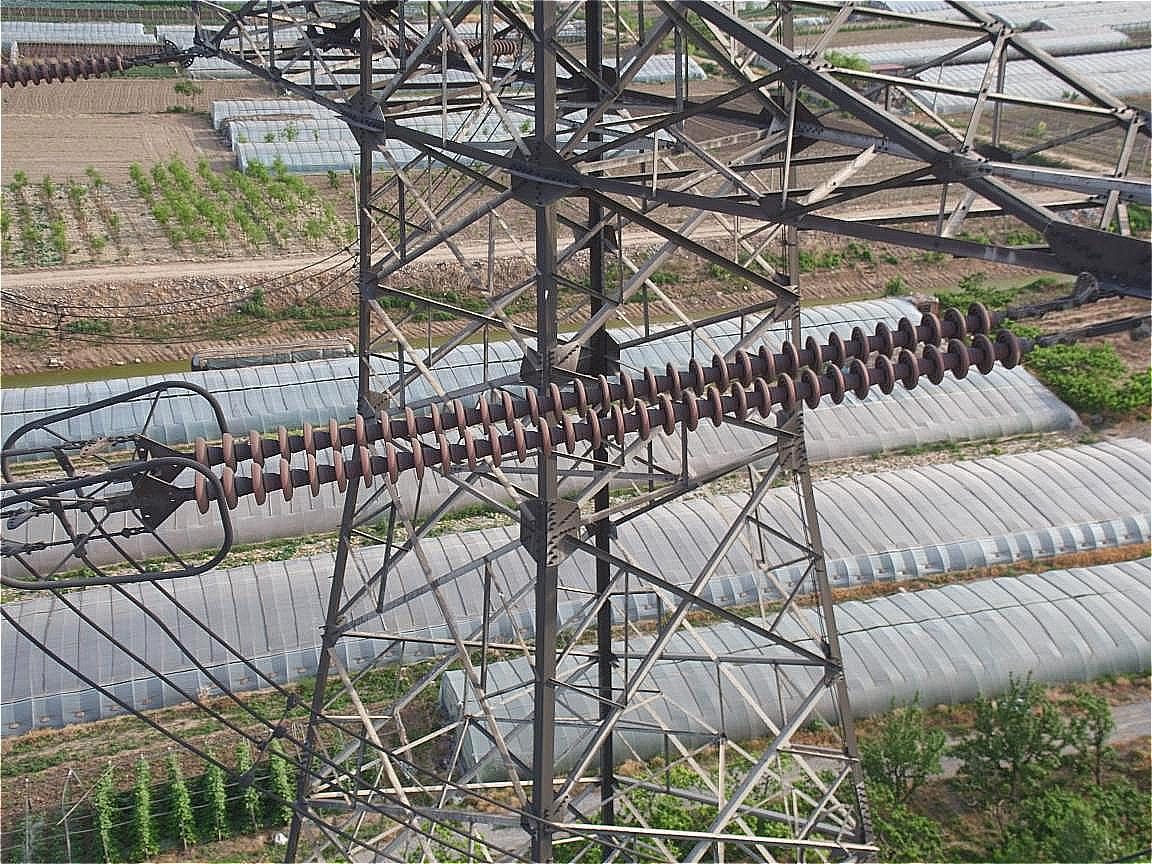insultor1: (176, 286, 1036, 511)
